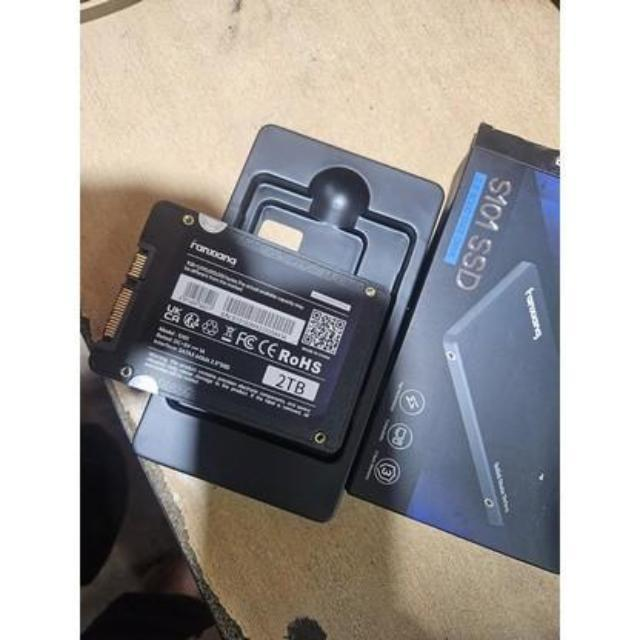DISK: (88, 202, 390, 458)
